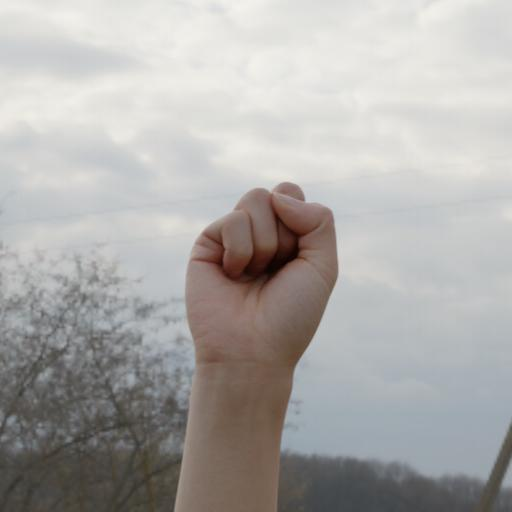S: (147, 171, 370, 389)
